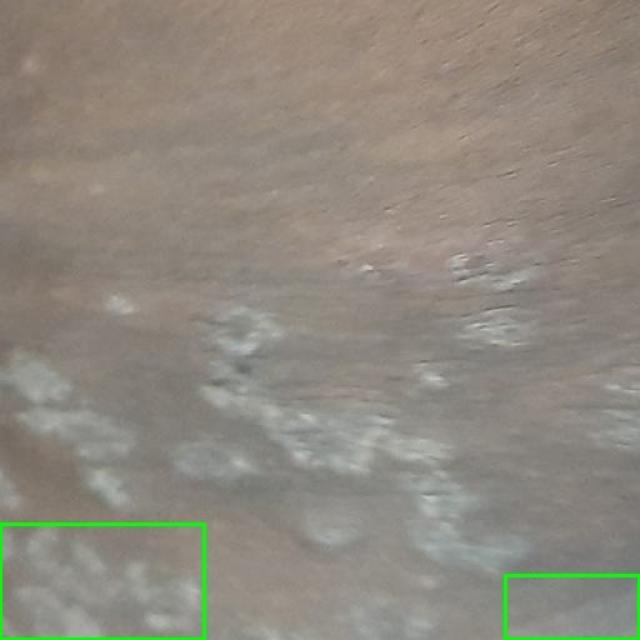Seborrheic Dermatitis: (0, 524, 204, 639), (505, 575, 639, 639)
